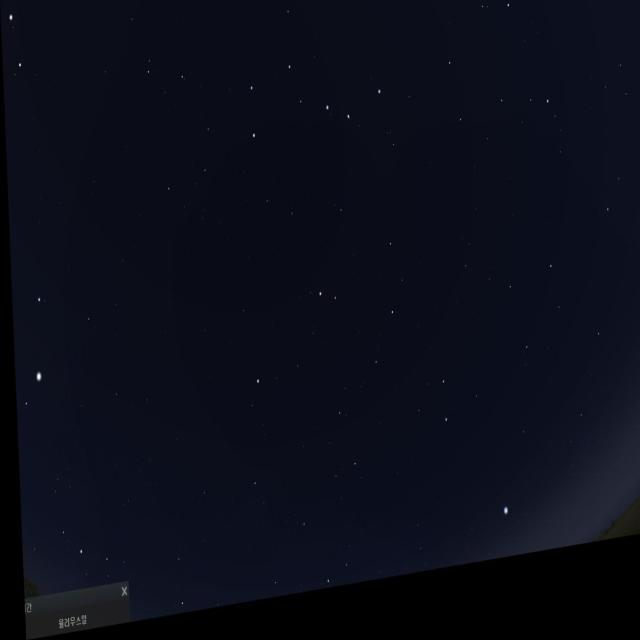ursa_major: (242, 52, 386, 173)
